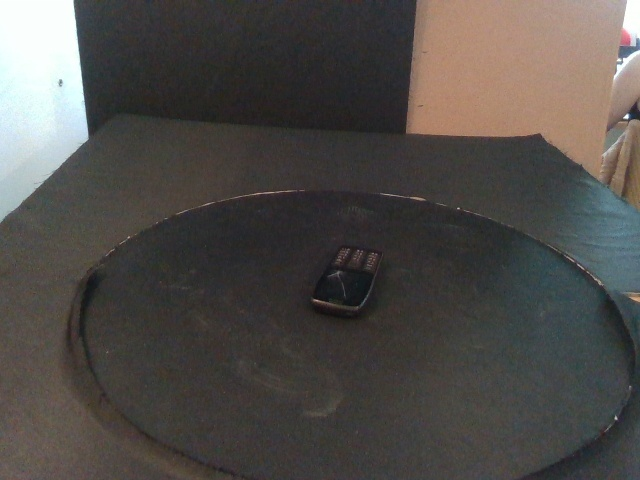phone: (310, 244, 383, 321)
